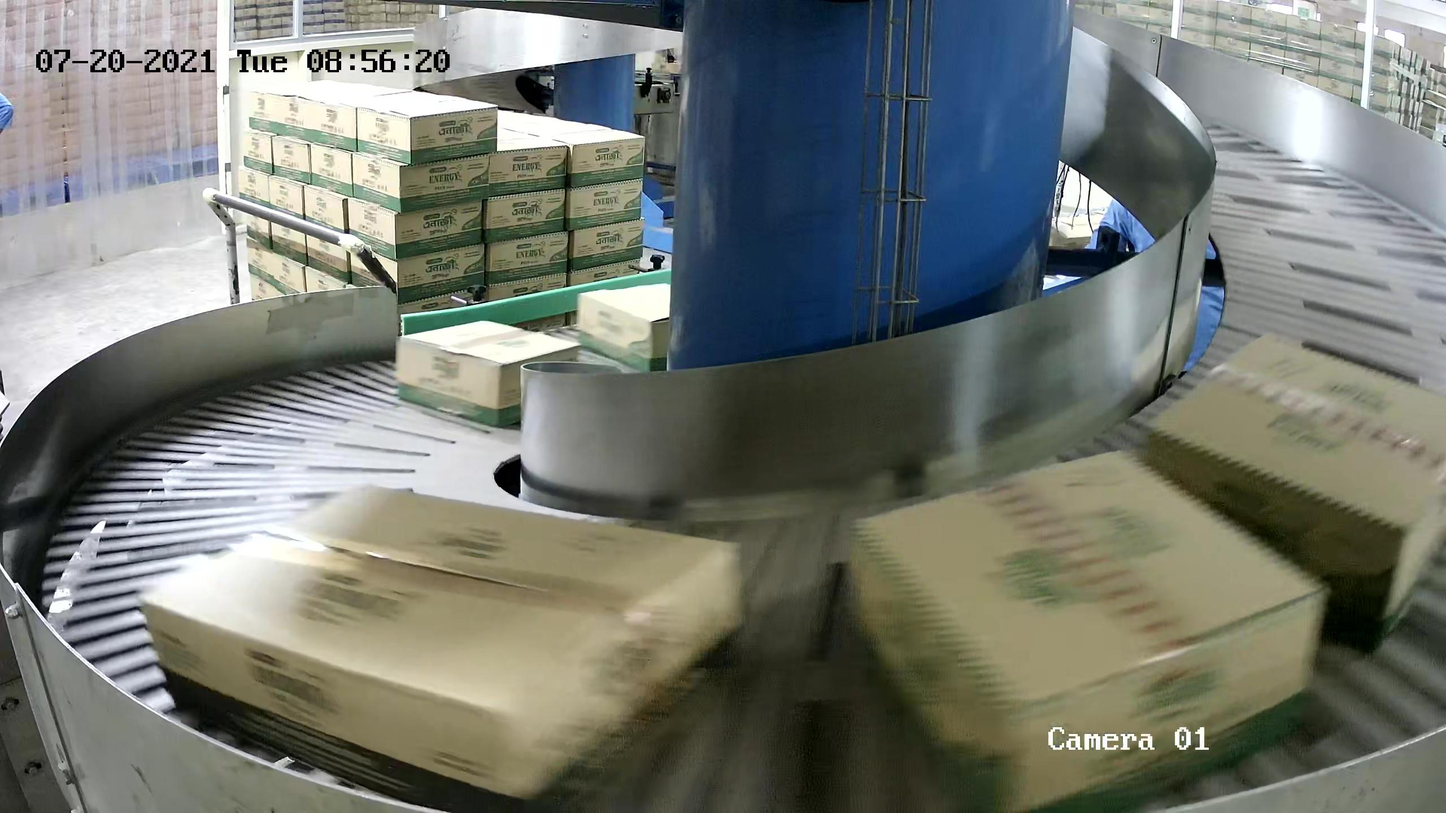Box: (134, 478, 751, 813), (843, 443, 1336, 813), (1143, 326, 1446, 656), (394, 319, 582, 428), (576, 280, 672, 375)
